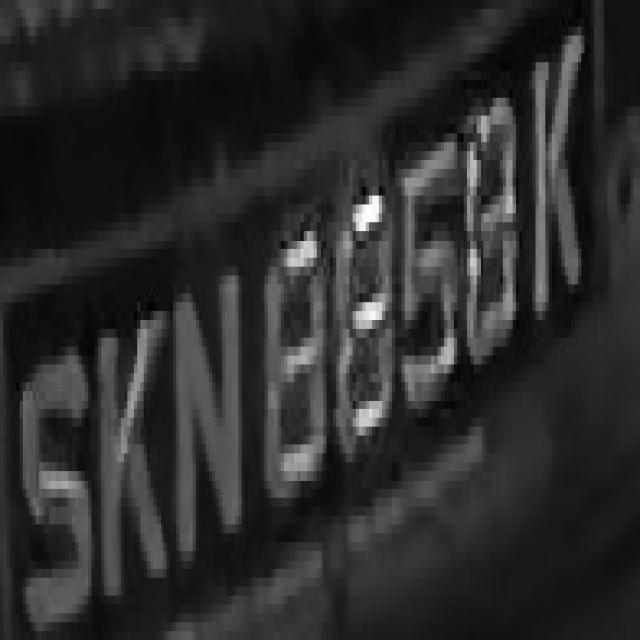5: (398, 151, 467, 436)
8: (323, 160, 395, 489), (258, 213, 333, 498), (454, 89, 519, 382)
K: (78, 267, 166, 613), (522, 18, 594, 329)
N: (156, 231, 255, 578)
S: (0, 4, 1, 9)
